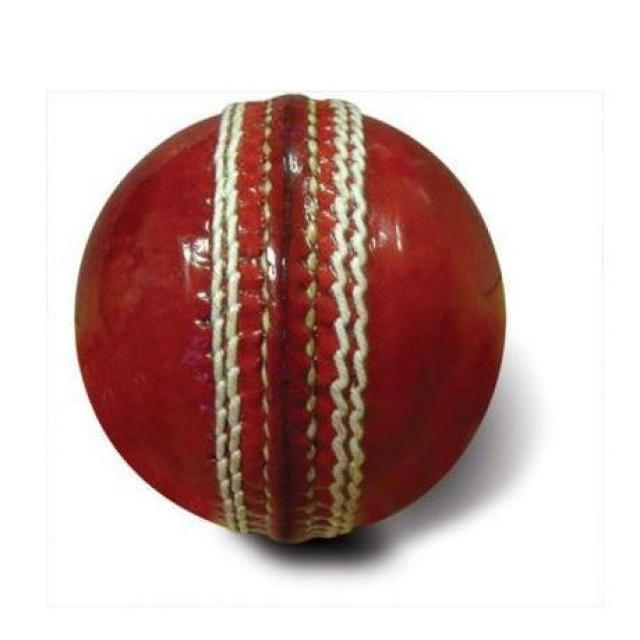ball: (77, 95, 510, 555)
